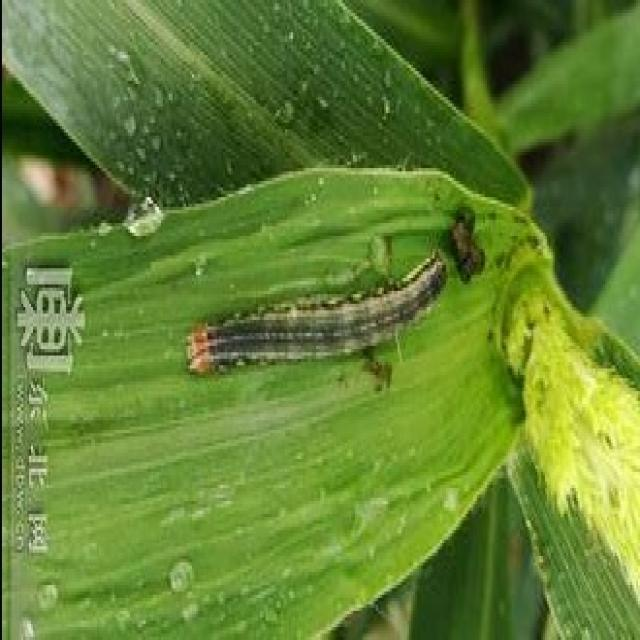army worm: (174, 244, 449, 412)
